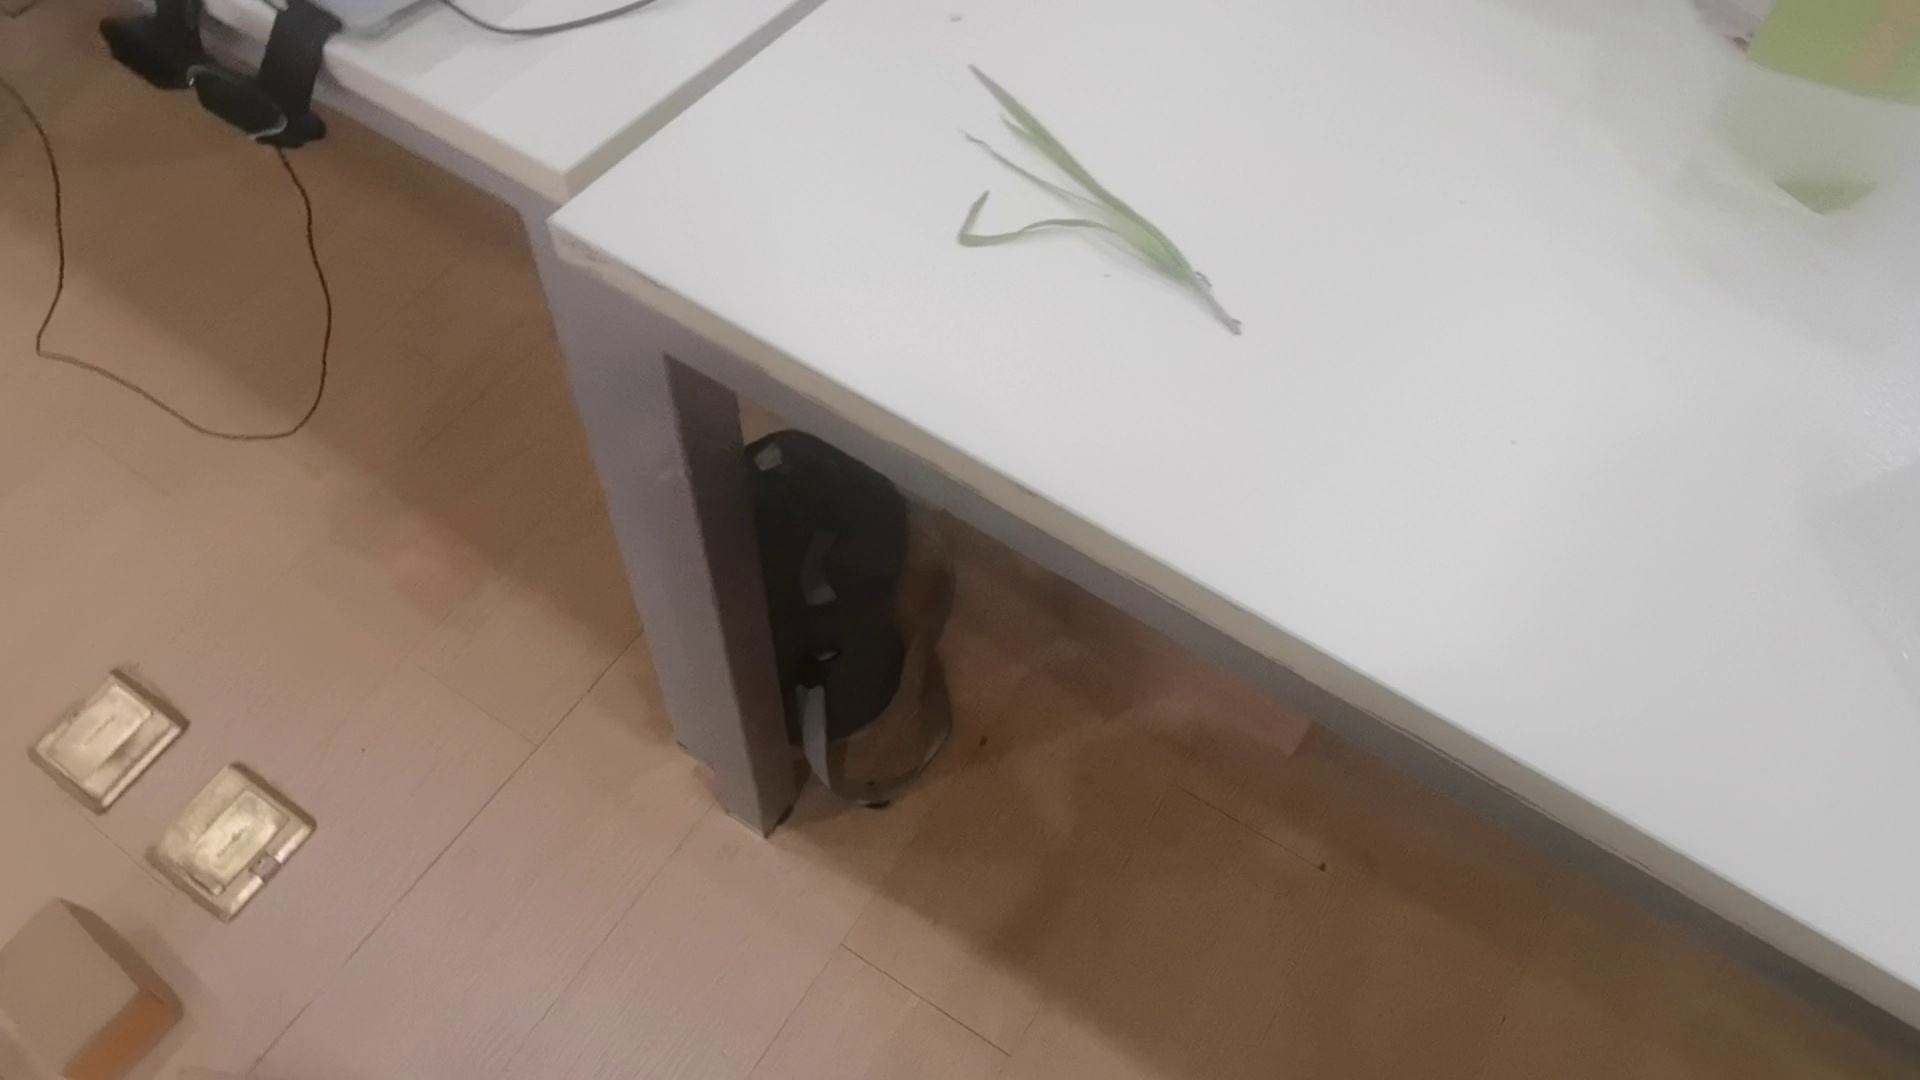chives: (956, 59, 1241, 328)
